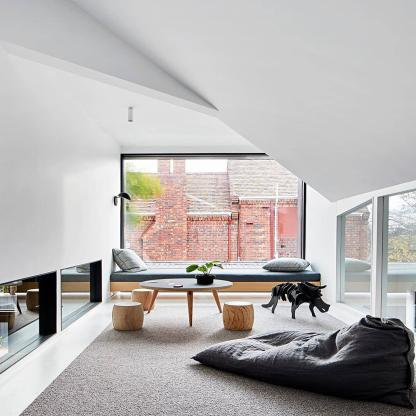bantal: (112, 247, 147, 273), (263, 256, 313, 273)
meja: (139, 272, 222, 327)
tanaman: (189, 261, 219, 285)
